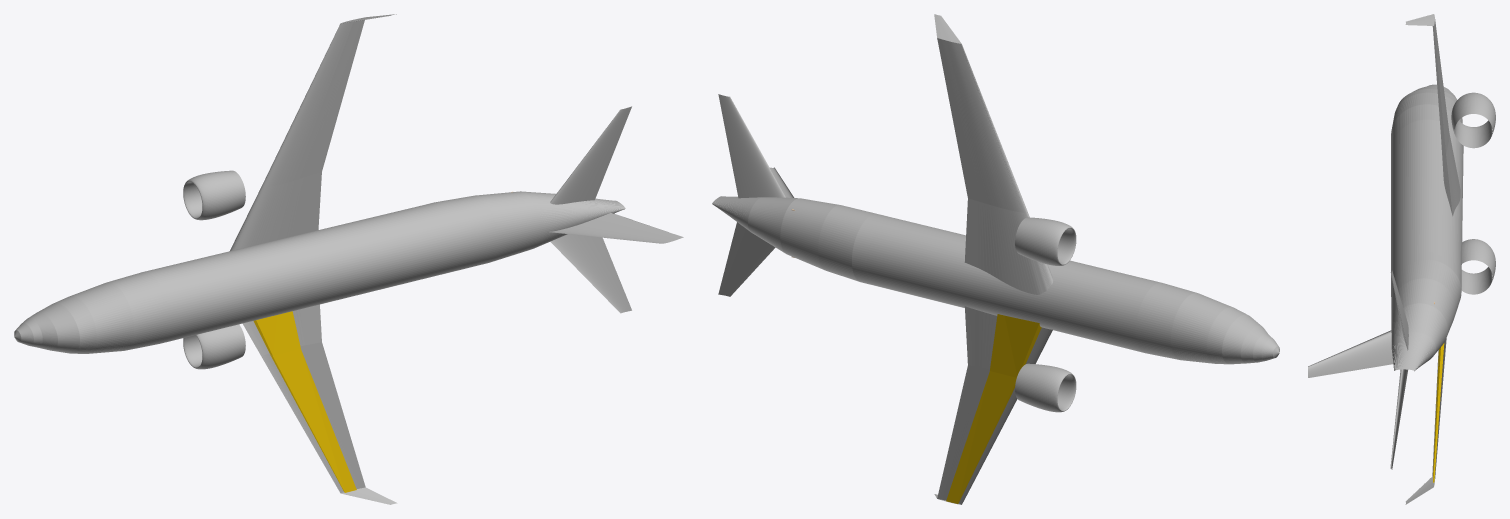
The model's file is Embraer_E190AR.gltf.
3 views of the same model, side by side, from view 1: azimuth 30°, elevation 25°; view 2: azimuth 150°, elevation 25°; view 3: azimuth 270°, elevation 25° (orthographic).
Visible parts, largest first — view 1: Renderer Node; view 2: Renderer Node; view 3: Renderer Node.
Boxes of the visible parts, x1,y1,x2,y2 form: Renderer Node: (14, 14, 683, 504); Renderer Node: (712, 14, 1279, 504); Renderer Node: (1308, 14, 1495, 504).
Size of the model in its own units: 37.12 by 28.72 by 10.19.
